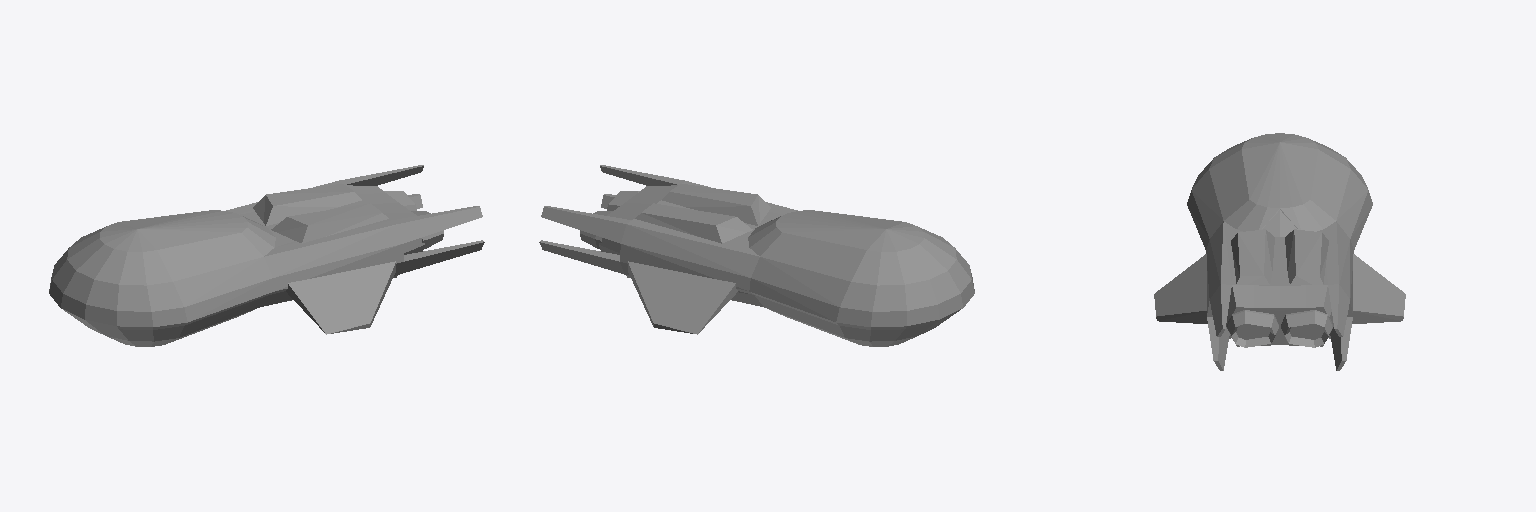
3 views of the same model, side by side, from view 1: azimuth 30°, elevation 25°; view 2: azimuth 150°, elevation 25°; view 3: azimuth 270°, elevation 25° (orthographic).
Parts seen in each view (by area): view 1: AstraShuttle; view 2: AstraShuttle; view 3: AstraShuttle.
Boxes of the visible parts, x1=… form: AstraShuttle: x1=49, y1=165, x2=484, y2=346; AstraShuttle: x1=539, y1=165, x2=974, y2=346; AstraShuttle: x1=1154, y1=133, x2=1405, y2=370.
Size of the model in its own units: 0.1116 by 0.0304 by 0.0623.